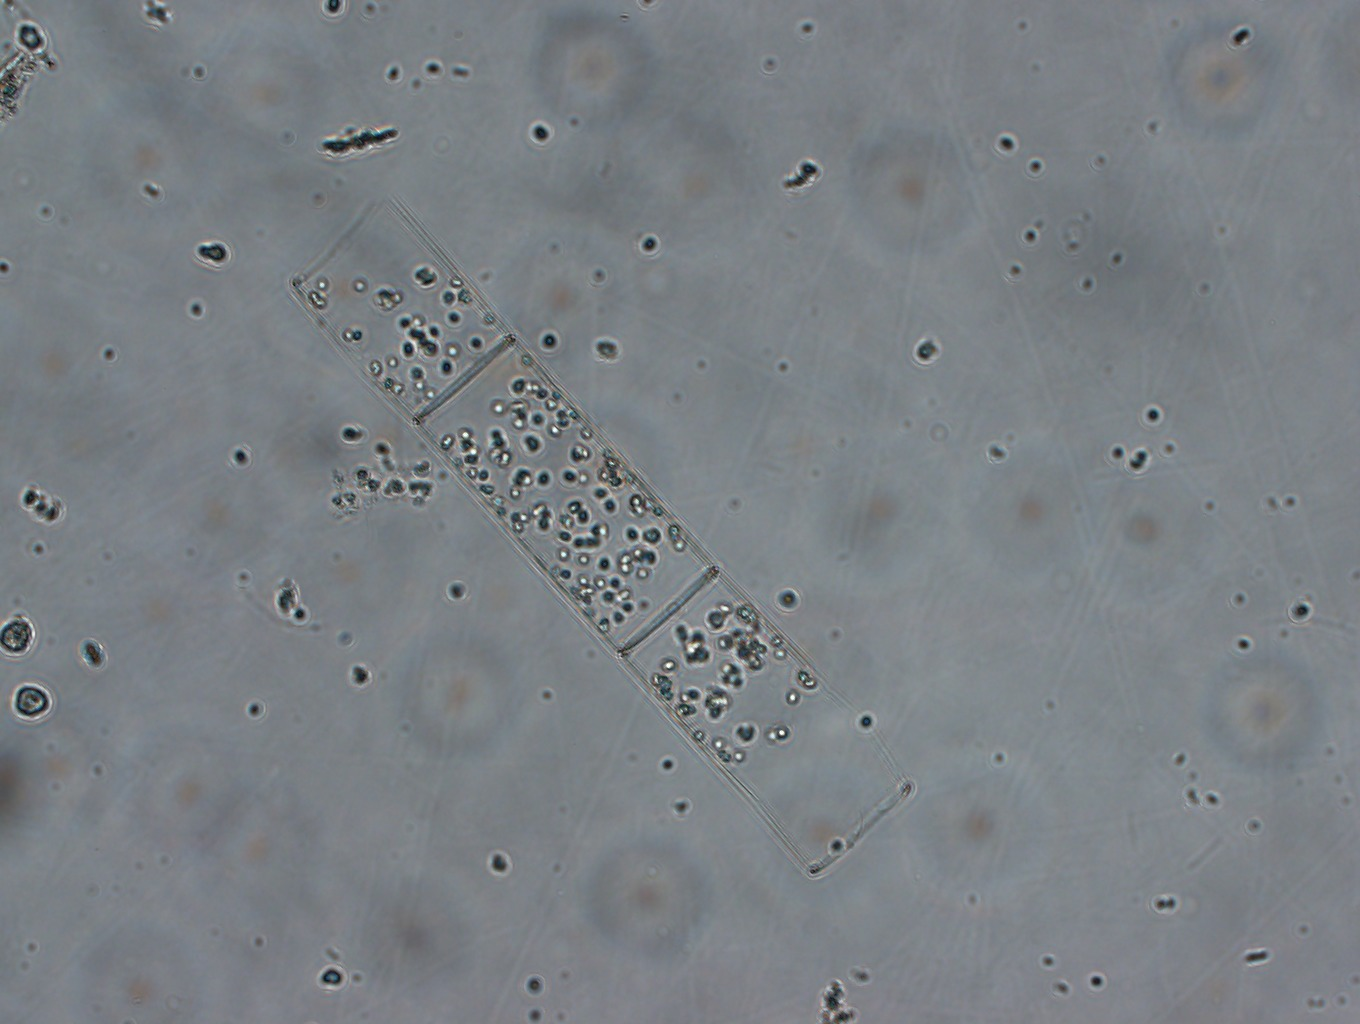guinardia flaccida: (273, 183, 929, 888)
